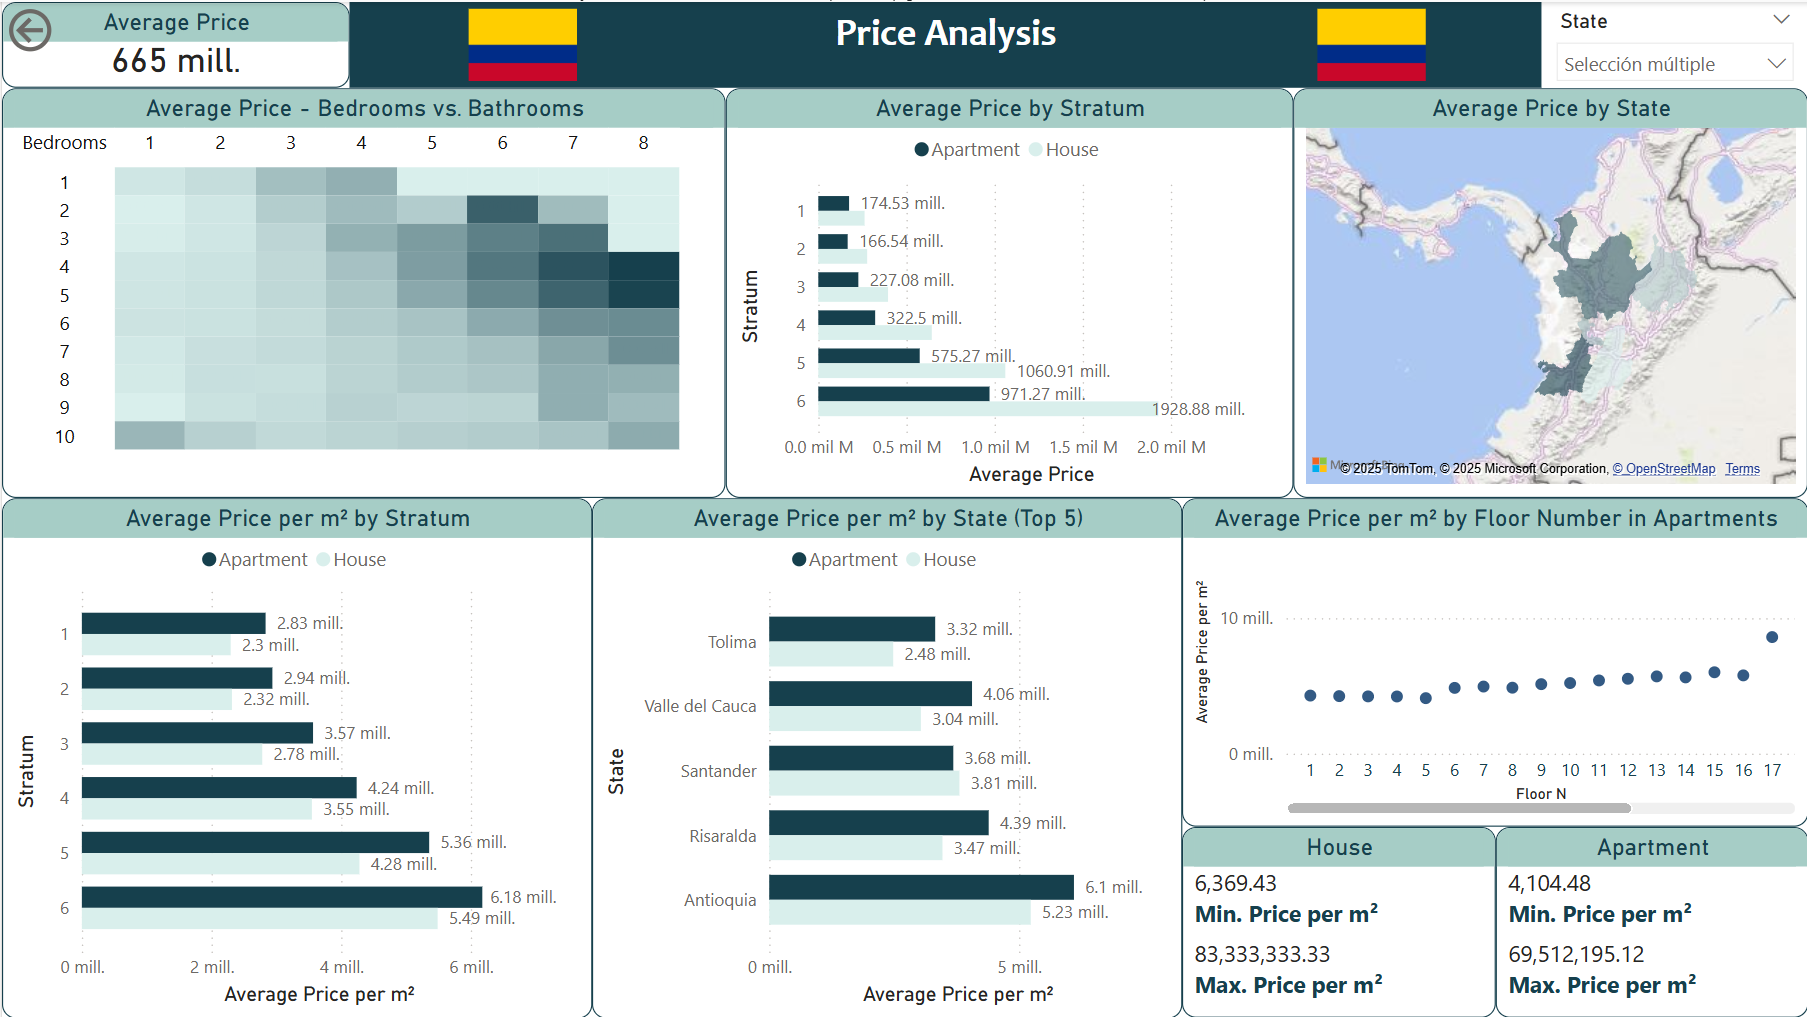

This screenshot's page, from the dashboard's own definition file:
{"tool":"powerbi","page":{"name":"Análisis de Precios","canvas":[1280,720],"ordinal":1},"visuals":[{"type":"slicer","fields":{"Values":["Props.Estado"]},"box":[1091.5,0,188.7,61.1],"z":0},{"type":"card","title":"Precio Promedio","fields":{"Values":["Avg(Props.Precio)"]},"box":[0,0,246.3,61.1],"z":1000},{"type":"textbox","box":[246.3,0,845.2,61.1],"z":2000},{"type":"clusteredBarChart","title":"Precio promedio por Estrato","fields":{"Category":["Props.Estrato"],"Y":["Avg(Props.Precio)"],"Series":["Props.Tipo Propiedad"]},"box":[513,61.1,402.2,290.6],"z":3000},{"type":"image","box":[901.9,0,137.3,61.1],"z":4000},{"type":"image","box":[300.3,0,137.3,61.1],"z":5000},{"type":"filledMap","title":"Precio Promedio por Estado","fields":{"Category":["Props.Estado"]},"box":[915.2,61.1,365,290.6],"z":6000},{"type":"actionButton","box":[0,0,100,40],"z":7000},{"type":"multiRowCard","title":"Casa","fields":{"Values":["Min(Props.Precio m2)","Max(Props.Precio m2)1"]},"box":[836.3,584.7,222.4,135.5],"z":8000},{"type":"clusteredBarChart","title":"Precio promedio por m² por Estrato","fields":{"Category":["Props.Estrato"],"Y":["Avg(Props.Precio m2)"],"Series":["Props.Tipo Propiedad"]},"box":[0,351.7,418.2,368.6],"z":9000},{"type":"clusteredBarChart","title":"Precio promedio por m² por Estado (Top 5)","fields":{"Category":["Props.Estado"],"Y":["Avg(Props.Precio m2)"],"Series":["Props.Tipo Propiedad"]},"box":[418.2,351.7,418.2,368.6],"z":10000},{"type":"scatterChart","title":"Precio promedio por m² por n° piso en Aptos","fields":{"Series":["Props.Tipo Propiedad"],"Y":["Avg(Props.Precio m2)"],"X":["Props.Piso N"]},"box":[836.3,351.7,443.9,233],"z":11000},{"type":"multiRowCard","title":"Apartamento","fields":{"Values":["Min(Props.Precio m2)","Max(Props.Precio m2)1"]},"box":[1058.7,584.7,221.5,135.5],"z":12000},{"type":"pivotTable","title":"Precio promedio - Habitaciones vs Baños","fields":{"Columns":["Props.Banos"],"Rows":["Props.Habitaciones"],"Values":["Avg(Props.Precio)"]},"box":[0,61.1,513,290.6],"z":13000}]}

Visuals, with their boxes in screenshot pixels (x1, y1, x2, y2), scaled from the page's 1280x720 canvas onto the 1807x1017 screenshot:
slicer - Props.Estado: bbox=(1541, 0, 1806, 86)
"Precio Promedio" card: bbox=(0, 0, 348, 86)
textbox: bbox=(348, 0, 1541, 86)
"Precio promedio por Estrato" clusteredBarChart: bbox=(724, 86, 1292, 497)
image: bbox=(1273, 0, 1467, 86)
image: bbox=(424, 0, 618, 86)
"Precio Promedio por Estado" filledMap: bbox=(1292, 86, 1806, 497)
actionButton: bbox=(0, 0, 141, 56)
"Casa" multiRowCard: bbox=(1181, 826, 1495, 1016)
"Precio promedio por m² por Estrato" clusteredBarChart: bbox=(0, 497, 590, 1016)
"Precio promedio por m² por Estado (Top 5)" clusteredBarChart: bbox=(590, 497, 1181, 1016)
"Precio promedio por m² por n° piso en Aptos" scatterChart: bbox=(1181, 497, 1806, 826)
"Apartamento" multiRowCard: bbox=(1495, 826, 1806, 1016)
"Precio promedio - Habitaciones vs Baños" pivotTable: bbox=(0, 86, 724, 497)
